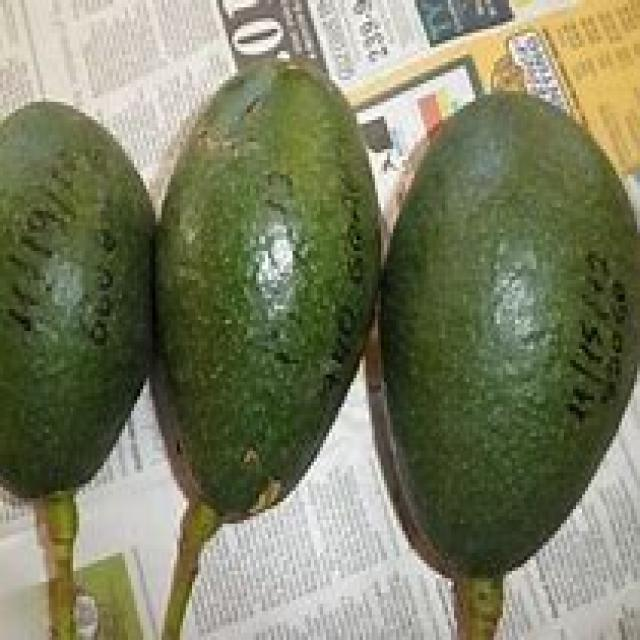Avocado: (383, 82, 640, 575), (152, 37, 392, 520), (2, 68, 164, 504)
